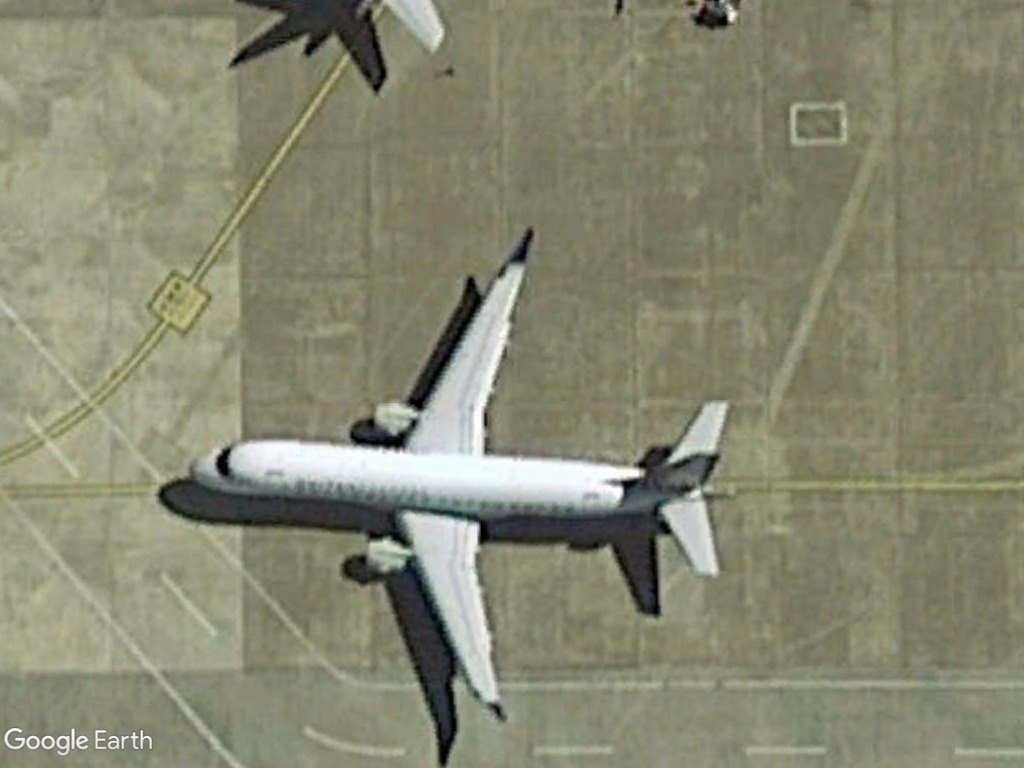airliner: (175, 236, 751, 717)
